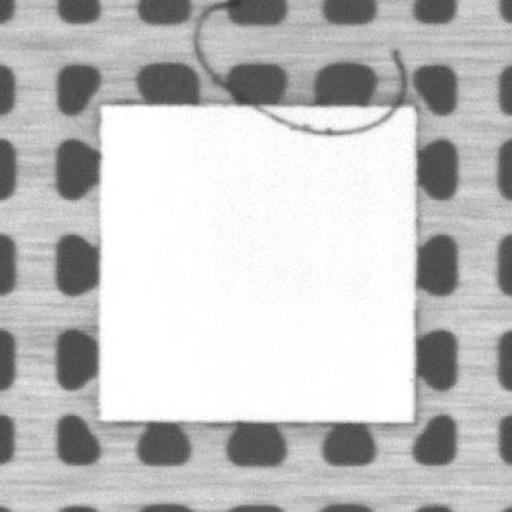DIE_INK: (248, 102, 402, 136)
